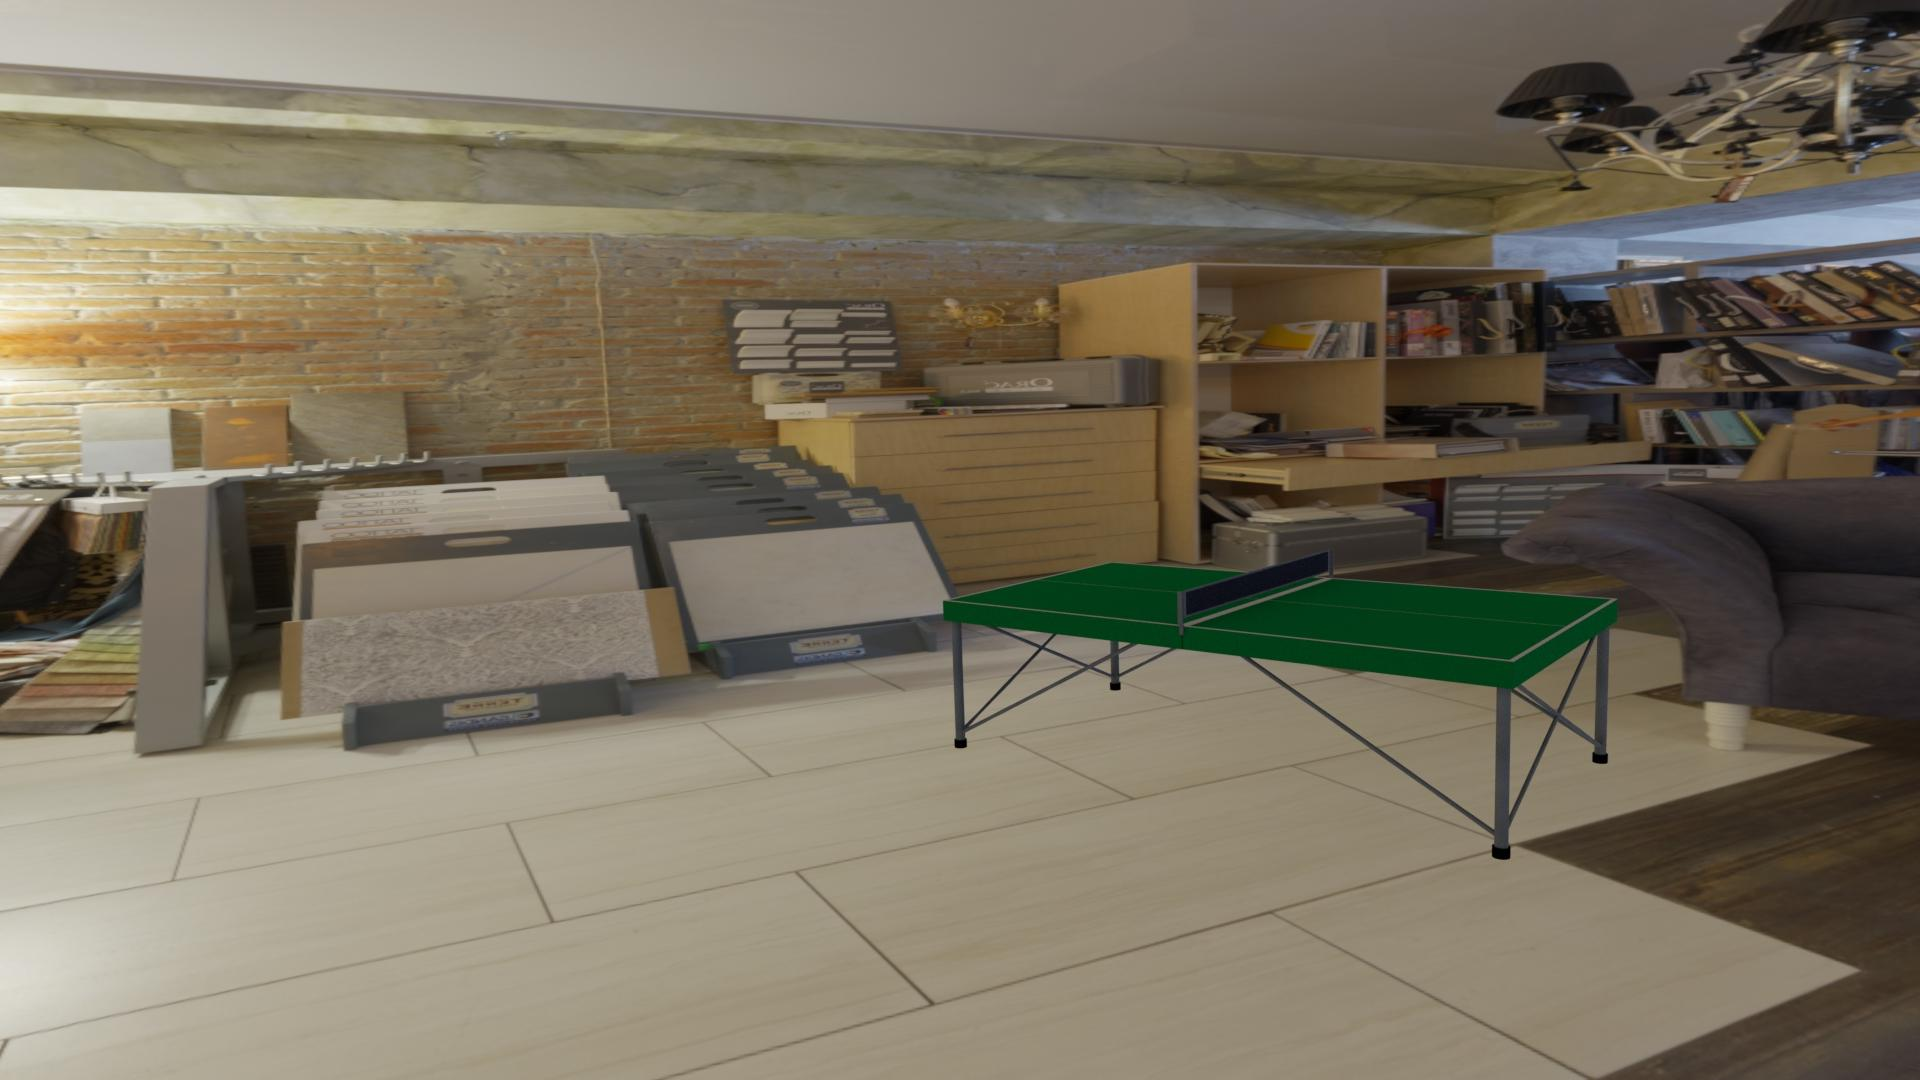table: (948, 563, 1611, 661)
